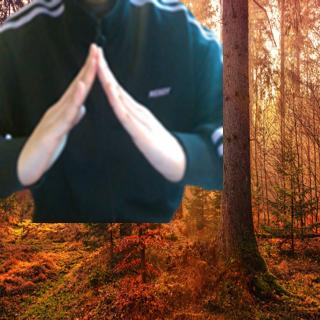HOME: (17, 40, 184, 185)
